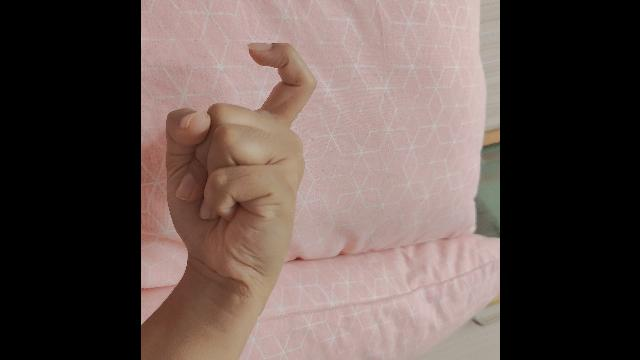tamrachud: (140, 41, 314, 360)
